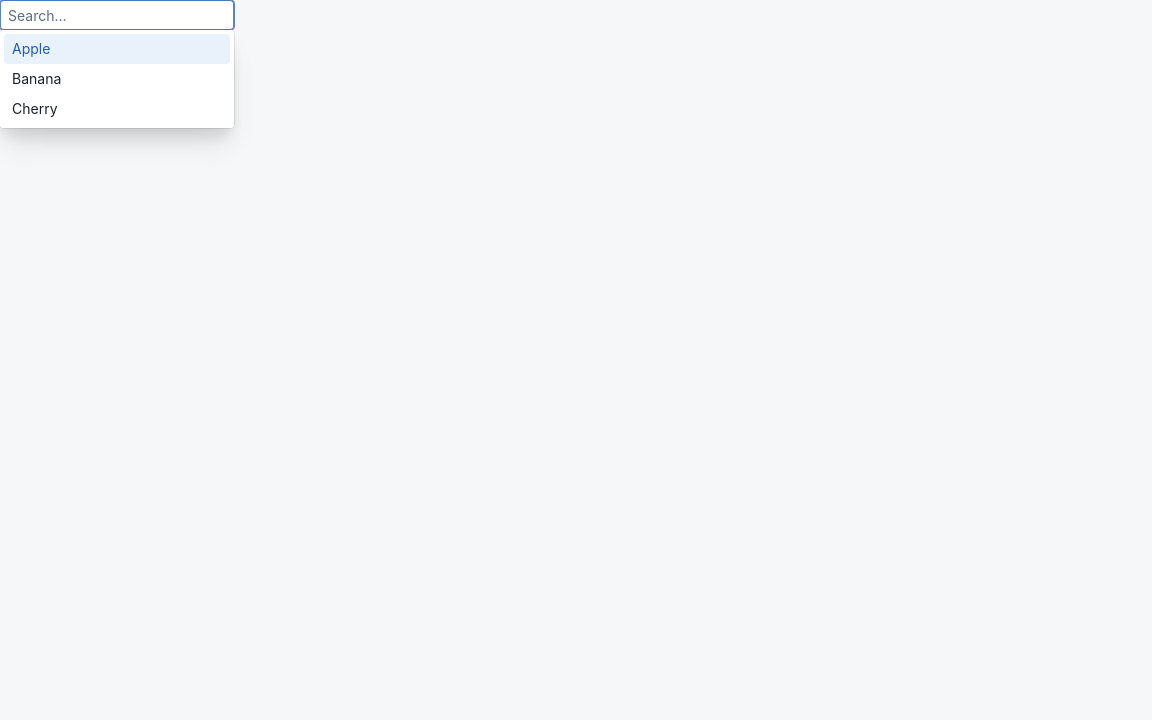
Scenario: Suggest — combobox ARIA › filters options as the user types
Expected: the list is shown, [0, 30, 234, 128]
Step 1. Type "ch" into the dropdown → point(117, 15), box [0, 0, 234, 30]
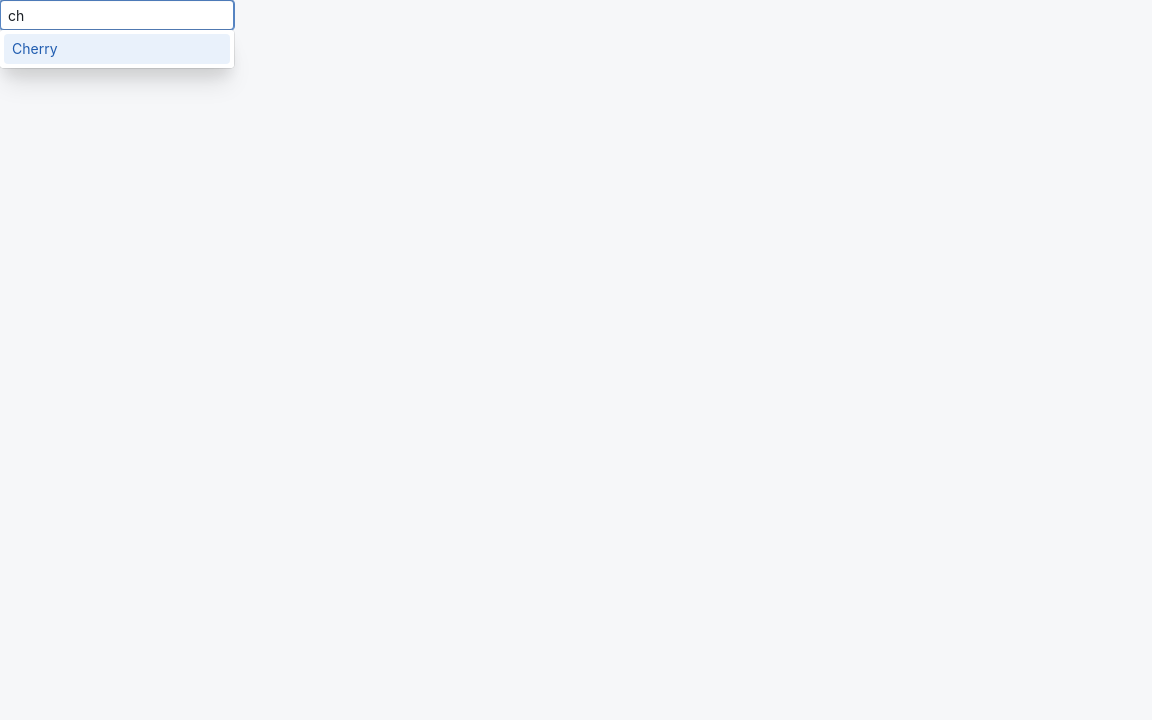
Expected: the option reads "Cherry", [4, 34, 230, 64]
Result: the number of options is 1 at [4, 34, 230, 64]
